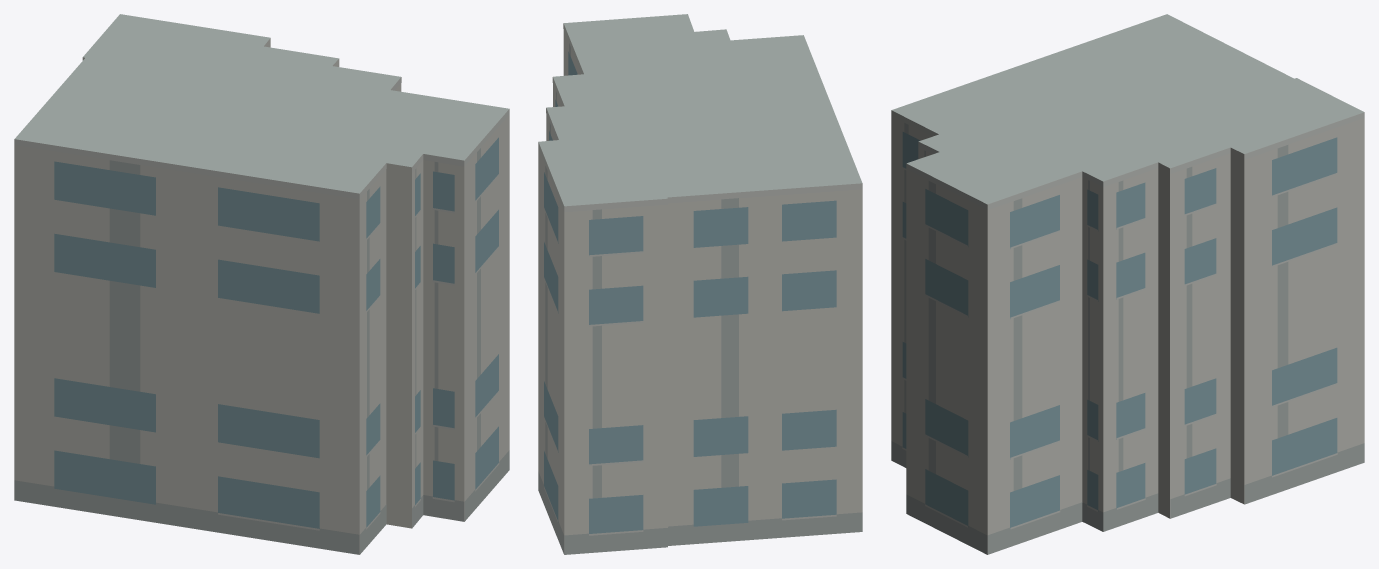
File: survey-upis-32875442.glb
3 renders of one model, left to right at view 1: azimuth 30°, elevation 25°; view 2: azimuth 150°, elevation 25°; view 3: azimuth 270°, elevation 25°, orthographic. The views are drawn at different scales.
Parts seen in each view (by area): view 1: survey-upis-32875442.tmp; view 2: survey-upis-32875442.tmp; view 3: survey-upis-32875442.tmp.
Boxes of the visible parts, box(x1,y1,x2,y2) form: survey-upis-32875442.tmp: box(14, 14, 509, 554); survey-upis-32875442.tmp: box(538, 14, 862, 554); survey-upis-32875442.tmp: box(891, 14, 1364, 554).
Bounding box in the file's own units: 17.03 × 14.6 × 17.88.
